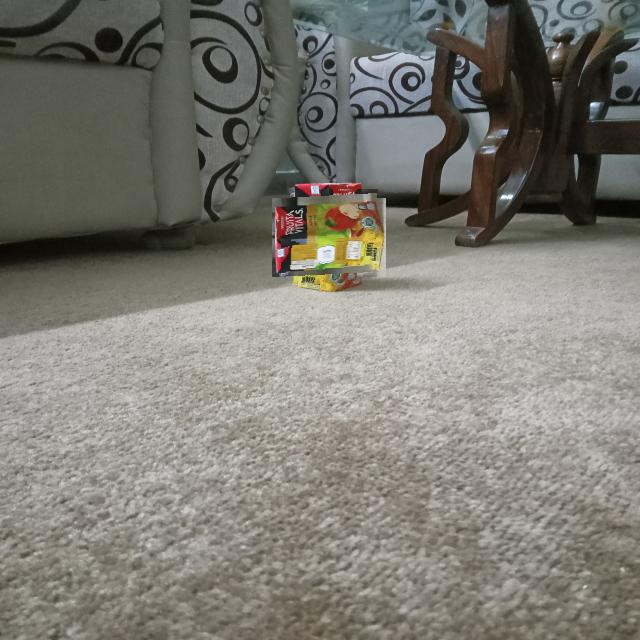Plastic: (281, 189, 378, 286)
